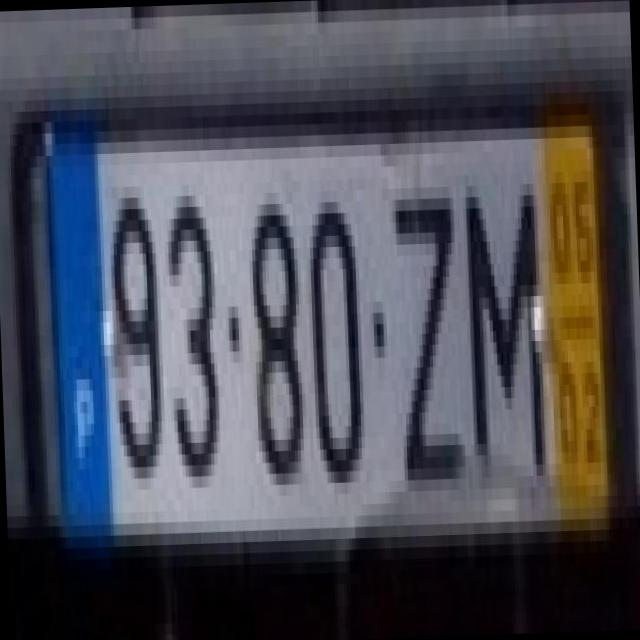0: (298, 178, 366, 472)
3: (148, 161, 230, 466)
8: (236, 169, 308, 474)
9: (94, 162, 163, 480)
M: (447, 149, 552, 467)
Z: (378, 163, 472, 481)
